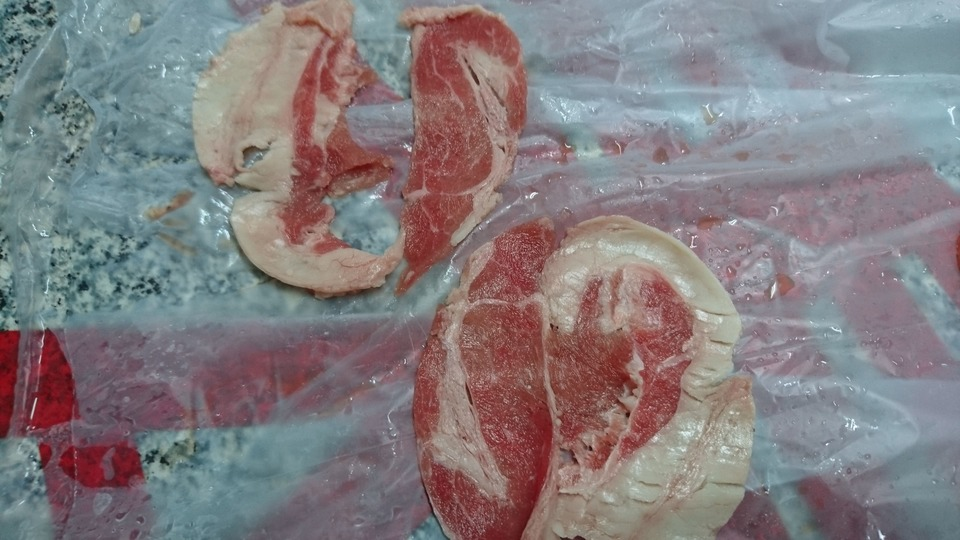restructured meat: (417, 190, 758, 540), (194, 2, 527, 295)
